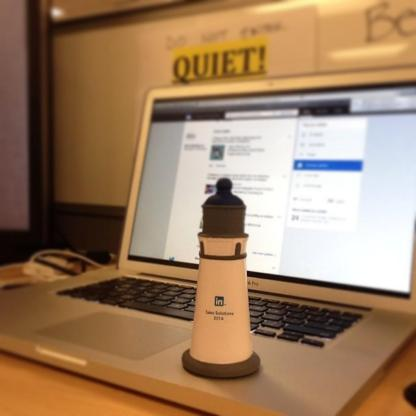board: (1, 64, 416, 416)
